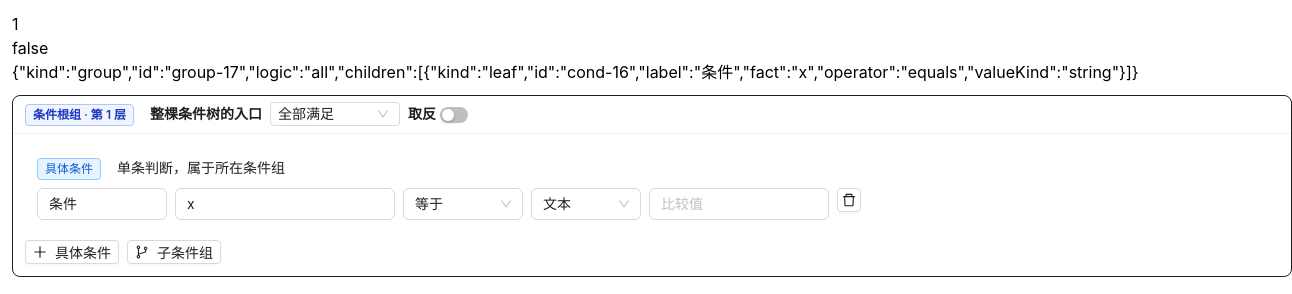
ConditionTreeEditor（P1-2 递归条件树组件） › 根组取反开关联动模型
Expected: the text with test id "root-negate" reads "false", [12, 38, 48, 58]
Click the switch named "取反" at (454, 115), box [440, 107, 468, 123]
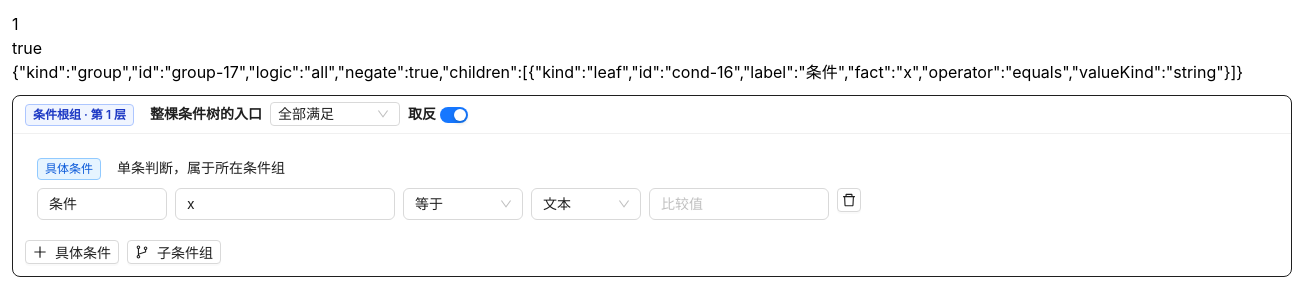
Result: the text with test id "root-negate" reads "true" at [12, 38, 42, 58]
